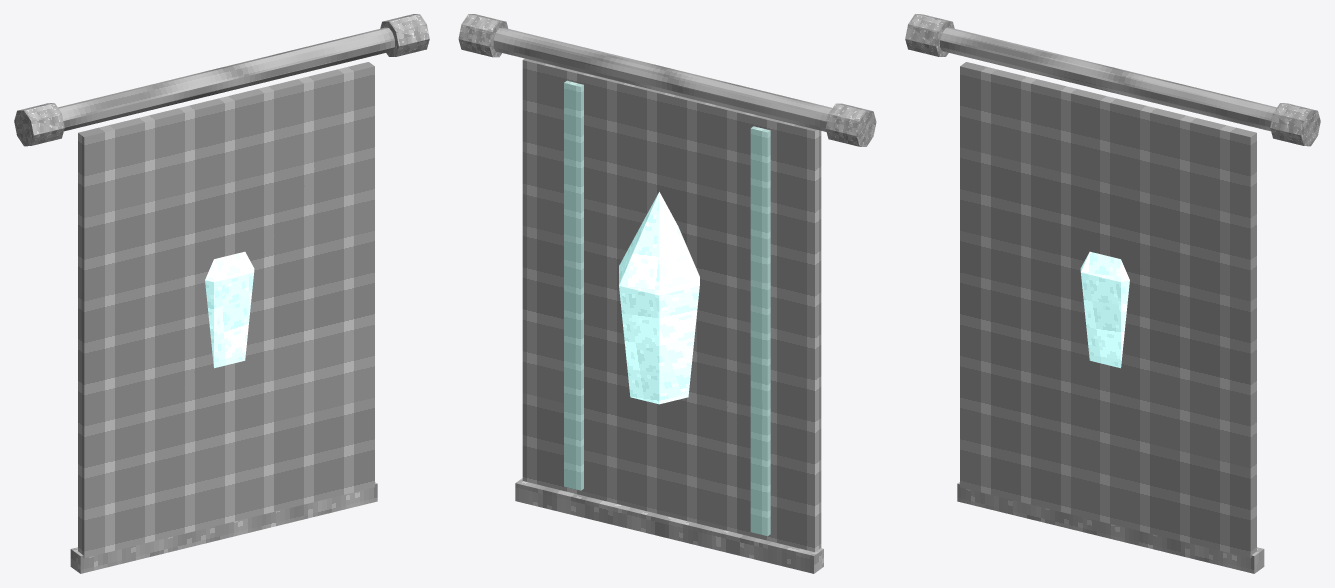
The model's file is crystal-banner-standard-spirit.glb.
3 views of the same model, side by side, from view 1: azimuth 30°, elevation 25°; view 2: azimuth 150°, elevation 25°; view 3: azimuth 330°, elevation 25° (orthographic).
Parts seen in each view (by area): view 1: field, top-rod, lower-rail, crystal-crest, left-cap, right-cap; view 2: field, crystal-crest, top-rod, left-fold, right-fold, lower-rail, left-cap, right-cap; view 3: field, top-rod, lower-rail, crystal-crest, right-cap, left-cap.
Part boxes in pixels (x1,y1,x2,y2): field: [78, 62, 374, 558]; top-rod: [58, 27, 394, 131]; lower-rail: [70, 482, 377, 573]; crystal-crest: [205, 251, 254, 368]; left-cap: [14, 103, 64, 146]; right-cap: [380, 14, 429, 56]; field: [522, 58, 821, 552]; crystal-crest: [619, 192, 699, 404]; top-rod: [493, 27, 832, 131]; left-fold: [750, 126, 770, 536]; right-fold: [564, 80, 583, 490]; lower-rail: [515, 478, 823, 573]; left-cap: [825, 103, 876, 146]; right-cap: [458, 14, 508, 57]; field: [960, 62, 1256, 558]; top-rod: [940, 27, 1276, 131]; lower-rail: [957, 482, 1264, 573]; crystal-crest: [1080, 251, 1129, 368]; right-cap: [1270, 103, 1320, 146]; left-cap: [905, 14, 954, 56].
Bounding box in the file's own units: 1.28 × 1.45 × 0.2252.
5 materials, 5 textured.
